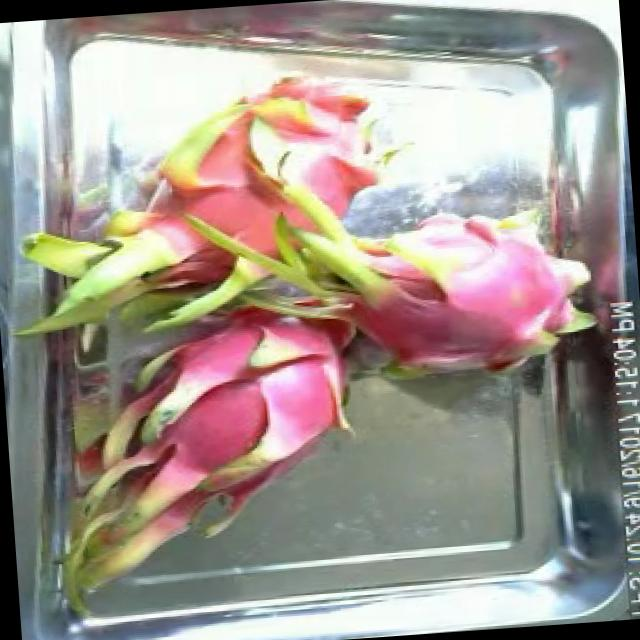Fruit: (137, 362, 288, 477)
